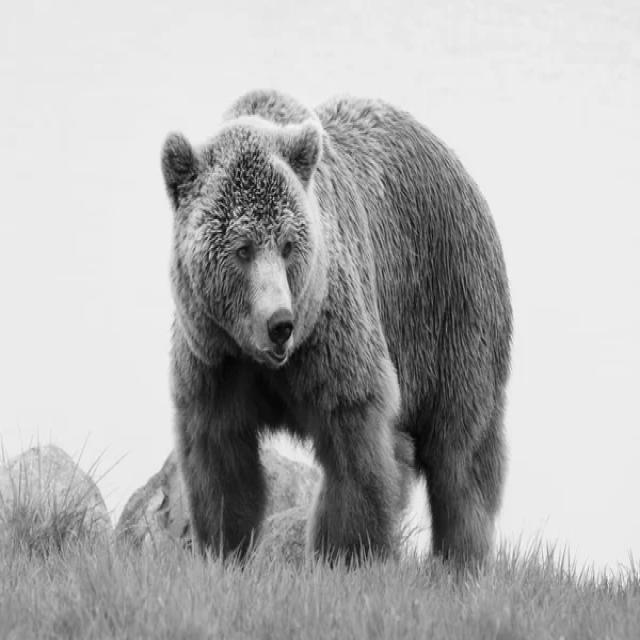Animal: (158, 78, 512, 566)
